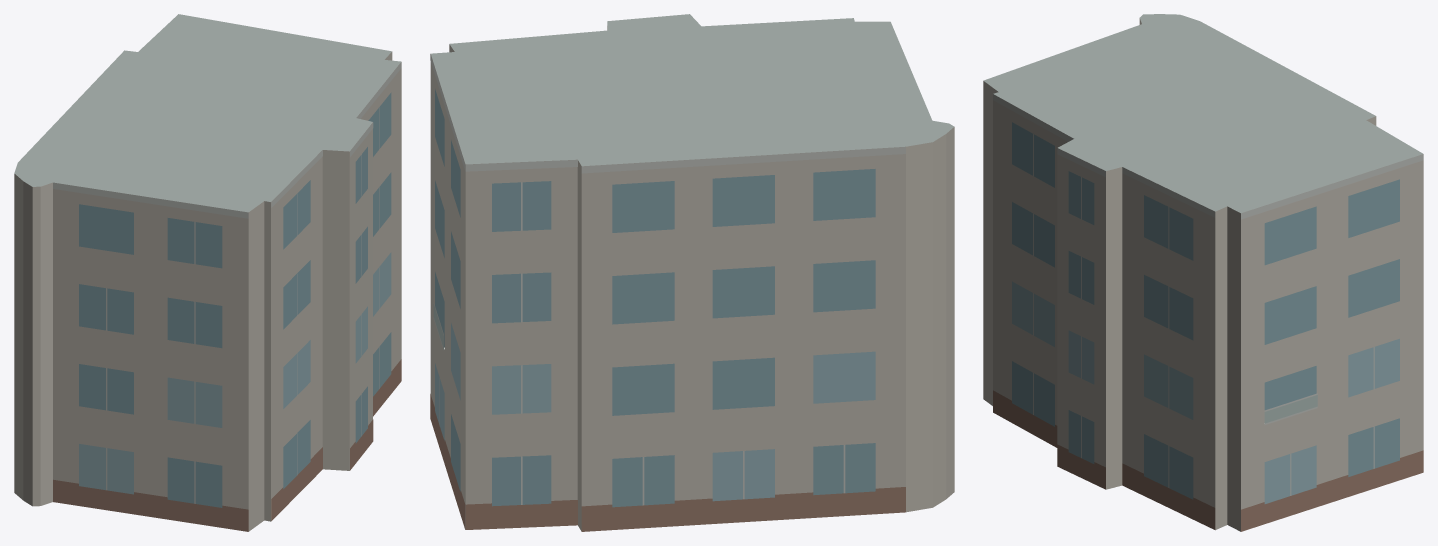
Rendered from survey-upis-32911426.glb.
3 renders of one model, left to right at view 1: azimuth 30°, elevation 25°; view 2: azimuth 150°, elevation 25°; view 3: azimuth 270°, elevation 25°, orthographic. The views are drawn at different scales.
Visible parts, largest first — view 1: survey-upis-32911426.tmp; view 2: survey-upis-32911426.tmp; view 3: survey-upis-32911426.tmp.
Part boxes in pixels (bbox=[...]): survey-upis-32911426.tmp: bbox=[14, 14, 401, 531]; survey-upis-32911426.tmp: bbox=[430, 14, 954, 531]; survey-upis-32911426.tmp: bbox=[983, 14, 1423, 531].
Size of the model in its own units: 16.51 by 12.3 by 15.42.
